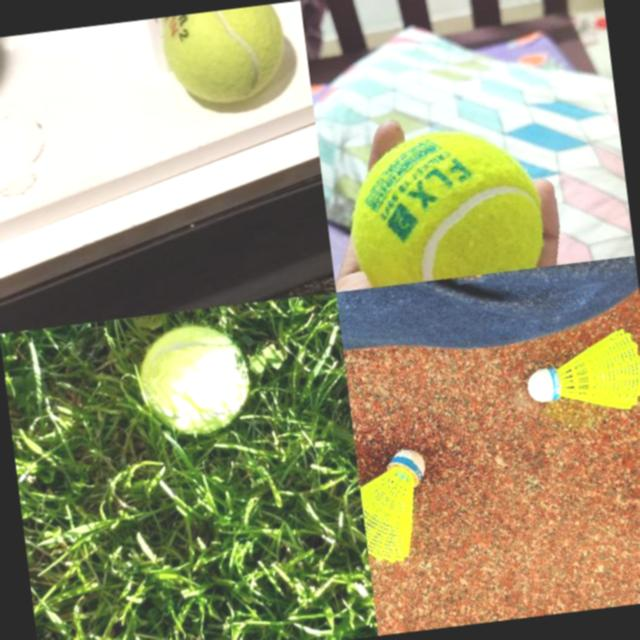tennis-ball: (339, 120, 549, 288), (132, 318, 256, 442), (158, 2, 294, 112)
